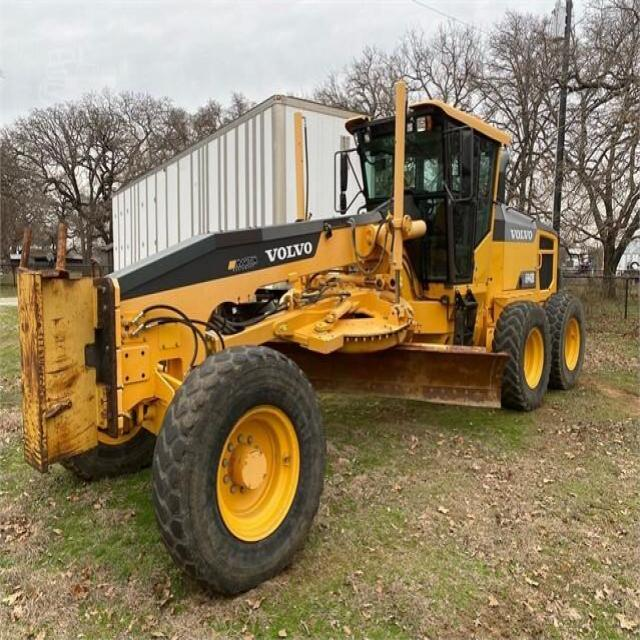Grader: (16, 69, 639, 596)
